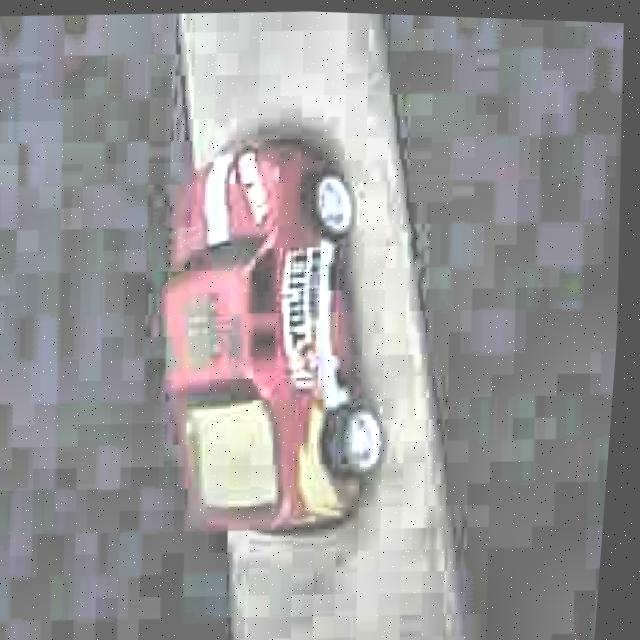car: (133, 126, 419, 551)
